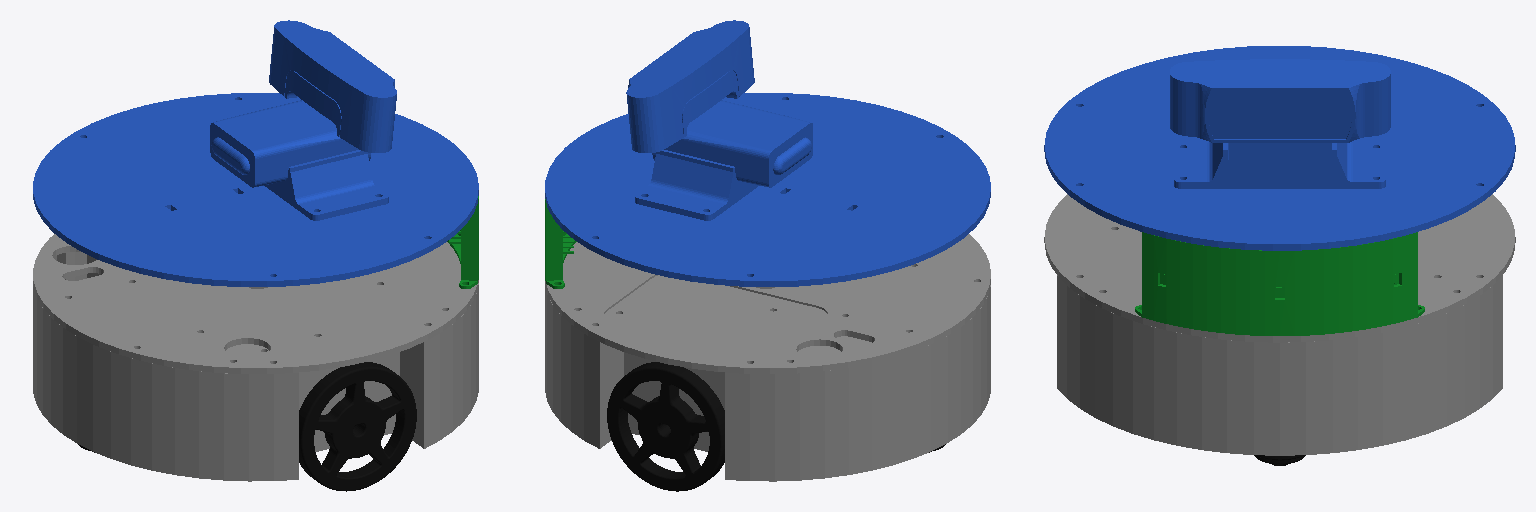
robot.urdf — colmibot:
<?xml version="1.0"?>
<!-- COLMIBOT: modelo para RViz y Gazebo Harmonic (ROS 2 Jazzy).
     Masas, centros de masa e inercias: reales, medidos en SolidWorks (ver docs/datos_fisicos.csv).
     Marco de cada link = marco del CAD (Y arriba, X eje de las ruedas, frente del robot = -Z del CAD). -->
<robot name="colmibot">

  <!-- ================= PARAMETROS (modificar aqui) =================
       Si cambias radio o separacion de rueda, cambia tambien el plugin DiffDrive (abajo)
       y la geometria de <collision> de las ruedas. -->

  <material name="gris"><color rgba="0.6 0.6 0.6 1.0"/></material>
  <material name="negro"><color rgba="0.1 0.1 0.1 1.0"/></material>
  <material name="azul"><color rgba="0.2 0.4 0.8 1.0"/></material>
  <material name="verde"><color rgba="0.1 0.6 0.2 1.0"/></material>

  <link name="base_link"/>

  <link name="chasis_link">
    <inertial>
      <origin xyz="0.00053023645 0.026752886 0.012959542" rpy="0 0 0"/>
      <mass value="1.8203639"/>
      <inertia ixx="0.0028231171" ixy="-3.247985e-05" ixz="4.029636e-05"
               iyy="0.005759073" iyz="-2.921923e-06" izz="0.0038395866"/>
    </inertial>
    <visual>
      <geometry>
        <mesh filename="package://robot_description/meshes/chasis.stl"/>
      </geometry>
      <material name="gris"/>
    </visual>
  </link>

  <joint name="base_to_chasis" type="fixed">
    <parent link="base_link"/>
    <child link="chasis_link"/>
    <origin xyz="0 0 0" rpy="1.5708 0 -1.5708"/>
  </joint>

  <link name="rueda_izquierda_link">
    <inertial>
      <origin xyz="-0.0018702923 3.08336e-06 5.291e-08" rpy="0 0 0"/>
      <mass value="0.019358118"/>
      <inertia ixx="9.1142735e-06" ixy="-1.087862e-10" ixz="-1.8701641e-12"
               iyy="4.6753925e-06" iyz="-2.5771442e-12" izz="4.6755426e-06"/>
    </inertial>
    <collision>
      <origin xyz="0 0 0" rpy="0 1.5708 0"/>
      <geometry>
        <cylinder radius="0.030" length="0.012"/>
      </geometry>
    </collision>
    <visual>
      <origin xyz="0.087 -0.0165 0" rpy="0 0 0"/>
      <geometry>
        <mesh filename="package://robot_description/meshes/rueda_izquierda.stl"/>
      </geometry>
      <material name="negro"/>
    </visual>
  </link>

  <joint name="rueda_izquierda_joint" type="continuous">
    <parent link="chasis_link"/>
    <child link="rueda_izquierda_link"/>
    <origin xyz="-0.087 0.0165 0" rpy="0 0 0"/>
    <axis xyz="-1 0 0"/>
    <dynamics damping="0.01" friction="0.0"/>
  </joint>

  <link name="rueda_derecha_link">
    <inertial>
      <origin xyz="0.0018702923 3.08382e-06 0" rpy="0 0 0"/>
      <mass value="0.019358118"/>
      <inertia ixx="9.1142735e-06" ixy="1.088127e-10" ixz="4.7e-16"
               iyy="4.6753924e-06" iyz="0" izz="4.6755427e-06"/>
    </inertial>
    <collision>
      <origin xyz="0 0 0" rpy="0 1.5708 0"/>
      <geometry>
        <cylinder radius="0.030" length="0.012"/>
      </geometry>
    </collision>
    <visual>
      <origin xyz="-0.087 -0.0165 0" rpy="0 0 0"/>
      <geometry>
        <mesh filename="package://robot_description/meshes/rueda_derecha.stl"/>
      </geometry>
      <material name="negro"/>
    </visual>
  </link>

  <joint name="rueda_derecha_joint" type="continuous">
    <parent link="chasis_link"/>
    <child link="rueda_derecha_link"/>
    <origin xyz="0.087 0.0165 0" rpy="0 0 0"/>
    <axis xyz="-1 0 0"/>
    <dynamics damping="0.01" friction="0.0"/>
  </joint>

  <link name="rueda_loca_link">
    <inertial>
      <origin xyz="0 -0.0016258668 0" rpy="0 0 0"/>
      <mass value="0.12378384"/>
      <inertia ixx="0.00079995588" ixy="-3.122e-14" ixz="-9.9738e-13"
               iyy="0.00080380897" iyz="-1.0479e-13" izz="9.2601211e-06"/>
    </inertial>
    <collision>
      <origin xyz="0 0 0.080" rpy="0 0 0"/>
      <geometry>
        <sphere radius="0.0135"/>
      </geometry>
    </collision>
    <collision>
      <origin xyz="0 0 -0.080" rpy="0 0 0"/>
      <geometry>
        <sphere radius="0.0135"/>
      </geometry>
    </collision>
    <visual>
      <geometry>
        <mesh filename="package://robot_description/meshes/rueda_loca.stl"/>
      </geometry>
      <material name="negro"/>
    </visual>
  </link>

  <joint name="chasis_to_rueda_loca" type="fixed">
    <parent link="chasis_link"/>
    <child link="rueda_loca_link"/>
    <origin xyz="0 0 0" rpy="0 0 0"/>
  </joint>

  <link name="camara_link">
    <inertial>
      <origin xyz="-7.005562e-05 0.11958325 -0.022599615" rpy="0 0 0"/>
      <mass value="0.3018622"/>
      <inertia ixx="0.00047504645" ixy="2.5690822e-07" ixz="-2.0592985e-07"
               iyy="0.00070242927" iyz="9.6902904e-05" izz="0.00045756625"/>
    </inertial>
    <visual>
      <geometry>
        <mesh filename="package://robot_description/meshes/camara.stl"/>
      </geometry>
      <material name="azul"/>
    </visual>
  </link>

  <joint name="chasis_to_camara" type="fixed">
    <parent link="chasis_link"/>
    <child link="camara_link"/>
    <origin xyz="0 0 0" rpy="0 0 0"/>
  </joint>

  <link name="imu_link">
    <inertial>
      <origin xyz="-0.00050931294 0.055049988 -0.058837794" rpy="0 0 0"/>
      <mass value="0.003012336"/>
      <inertia ixx="1.2864487e-07" ixy="-1.1213789e-09" ixz="-1.9521616e-09"
               iyy="1.5765984e-07" iyz="-8.9200531e-09" izz="8.682789e-08"/>
    </inertial>
    <visual>
      <geometry>
        <mesh filename="package://robot_description/meshes/imu.stl"/>
      </geometry>
      <material name="verde"/>
    </visual>
  </link>

  <joint name="chasis_to_imu" type="fixed">
    <parent link="chasis_link"/>
    <child link="imu_link"/>
    <origin xyz="0 0 0" rpy="0 0 0"/>
  </joint>

  <link name="tof_link">
    <inertial>
      <origin xyz="-0.00059942354 0.073724242 -0.089489064" rpy="0 0 0"/>
      <mass value="0.017814617"/>
      <inertia ixx="2.9047932e-06" ixy="2.3687642e-09" ixz="1.7986496e-07"
               iyy="2.6076279e-05" iyz="5.5044045e-08" izz="2.7180542e-05"/>
    </inertial>
    <visual>
      <geometry>
        <mesh filename="package://robot_description/meshes/tof.stl"/>
      </geometry>
      <material name="verde"/>
    </visual>
  </link>

  <joint name="chasis_to_tof" type="fixed">
    <parent link="chasis_link"/>
    <child link="tof_link"/>
    <origin xyz="0 0 0" rpy="0 0 0"/>
  </joint>

  <!-- ================= GAZEBO (RViz ignora todo lo de abajo) ================= -->

  <!-- Las ruedas locas son esferas sin friccion; el joint fijo se conserva para que Gazebo
       aplique la friccion a ese link. -->
  <gazebo reference="chasis_to_rueda_loca">
    <preserveFixedJoint>true</preserveFixedJoint>
  </gazebo>
  <gazebo reference="rueda_loca_link">
    <mu1>0.0</mu1>
    <mu2>0.0</mu2>
  </gazebo>
  <gazebo reference="rueda_izquierda_link">
    <mu1>1.0</mu1>
    <mu2>1.0</mu2>
  </gazebo>
  <gazebo reference="rueda_derecha_link">
    <mu1>1.0</mu1>
    <mu2>1.0</mu2>
  </gazebo>

  <gazebo>
    <!-- Traccion diferencial: recibe /cmd_vel (Twist) y mueve las dos ruedas -->
    <plugin filename="gz-sim-diff-drive-system" name="gz::sim::systems::DiffDrive">
      <left_joint>rueda_izquierda_joint</left_joint>
      <right_joint>rueda_derecha_joint</right_joint>
      <wheel_separation>0.174</wheel_separation>
      <wheel_radius>0.030</wheel_radius>
      <topic>cmd_vel</topic>
      <odom_topic>odom</odom_topic>
      <tf_topic>/tf</tf_topic>
      <frame_id>odom</frame_id>
      <child_frame_id>base_link</child_frame_id>
      <odom_publish_frequency>30</odom_publish_frequency>
    </plugin>
    <!-- Publica el angulo de las ruedas para que RViz las vea girar -->
    <plugin filename="gz-sim-joint-state-publisher-system"
            name="gz::sim::systems::JointStatePublisher">
      <topic>joint_states</topic>
    </plugin>
  </gazebo>

</robot>

--- Render facts (derived) ---
Views: 3 orthographic renders of the robot side by side, from view 1: azimuth 30°, elevation 25°; view 2: azimuth 150°, elevation 25°; view 3: azimuth 270°, elevation 25°.
Model colmibot with 8 links and 7 joints (2 continuous, 5 fixed), rooted at base_link, posed every joint at zero.
Visible links, largest first — view 1: camara_link, chasis_link, rueda_derecha_link, tof_link; view 2: camara_link, chasis_link, rueda_izquierda_link, tof_link; view 3: camara_link, chasis_link, tof_link.
Boxes of the visible links, x1=… form: camara_link: x1=33, y1=20, x2=478, y2=286; chasis_link: x1=33, y1=234, x2=478, y2=481; rueda_derecha_link: x1=299, y1=362, x2=416, y2=491; tof_link: x1=447, y1=196, x2=478, y2=288; camara_link: x1=545, y1=20, x2=990, y2=286; chasis_link: x1=545, y1=234, x2=990, y2=481; rueda_izquierda_link: x1=607, y1=362, x2=724, y2=491; tof_link: x1=545, y1=199, x2=576, y2=288; camara_link: x1=1044, y1=46, x2=1515, y2=250; chasis_link: x1=1044, y1=194, x2=1515, y2=455; tof_link: x1=1135, y1=232, x2=1424, y2=335.
Bounding box of the posed robot: 0.2 × 0.2 × 0.1672 m (x, y, z).
Meshes: 7 distinct files referenced, 7 mesh visuals loaded (7 binary STL).
